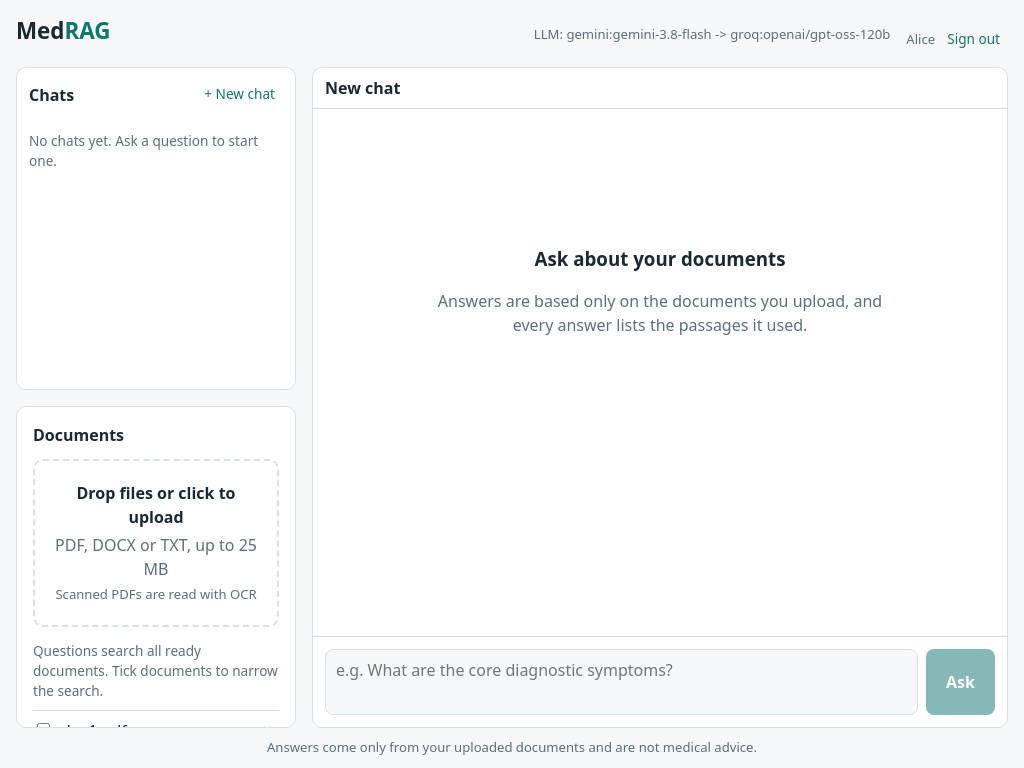
Scenario: errors and system info › shows an error banner when asking fails
Step 1. Type "Q?" into the text box named "Question" → (622, 682), box 325,649 -> 918,715
Then press Enter
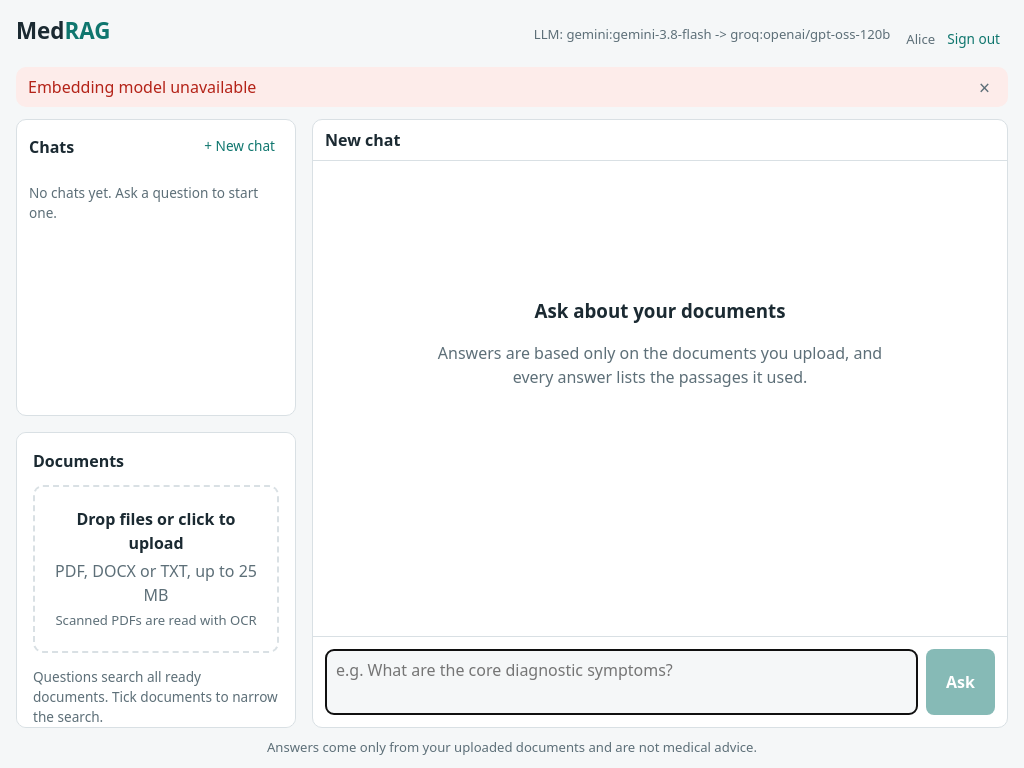
Now the message shows "Embedding model unavailable", box 28,76 -> 256,98
